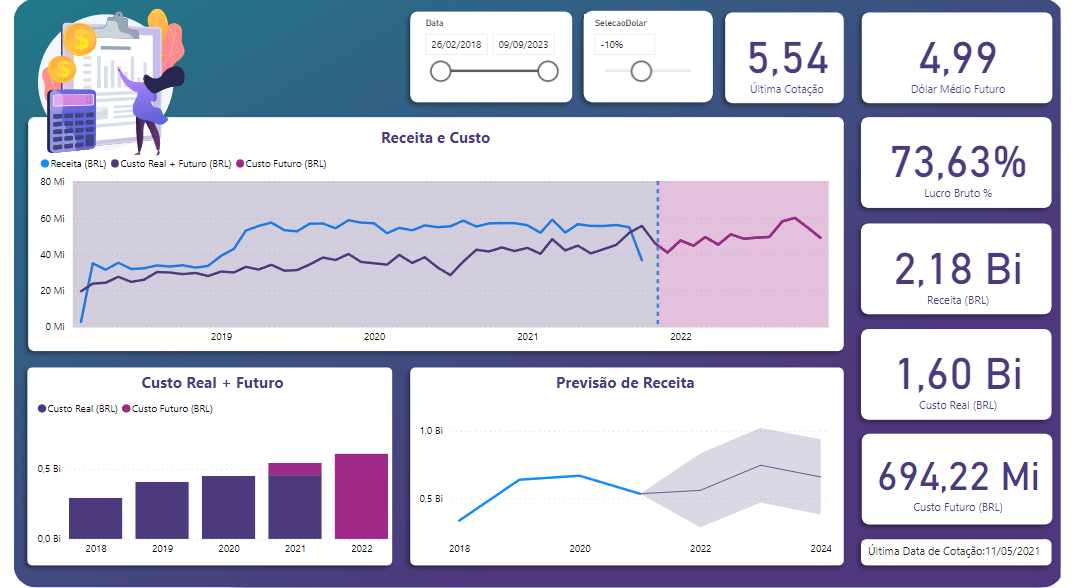

What the dashboard file says about the page in this screenshot:
{"tool":"powerbi","page":{"name":"Página 1","canvas":[1280,720],"ordinal":0},"visuals":[{"type":"lineChart","title":"Receita e Custo","fields":{"Y":["Medidas.Receita (BRL)","Medidas.Custo Real + Futuro (BRL)","Medidas.Custo Futuro (BRL)"],"Category":["Calendario.Data.Variation.Hierarquia de datas.Ano","Calendario.Data.Variation.Hierarquia de datas.Trimestre","Calendario.Data.Variation.Hierarquia de datas.Mês","Calendario.Data.Variation.Hierarquia de datas.Dia"]},"box":[27,154.8,977,274.1],"z":0},{"type":"slicer","fields":{"Values":["SelecaoDolar.SelecaoDolar"]},"box":[697.3,17,153.4,96.6],"z":1000},{"type":"textbox","box":[1039.5,658.9,230.1,32.7],"z":2000},{"type":"card","fields":{"Values":["Medidas.Última Cotação"]},"box":[866.3,11.4,156.2,120.7],"z":3000},{"type":"card","fields":{"Values":["Medidas.Dólar Médio Futuro"]},"box":[1039.5,17,230.1,107.9],"z":4000},{"type":"columnChart","title":"Custo Real + Futuro","fields":{"Category":["Calendario.Ano"],"Y":["Medidas.Custo Real (BRL)","Medidas.Custo Futuro (BRL)"]},"box":[22.7,454.4,438.8,234.3],"z":4001},{"type":"lineChart","title":"Previsão de Receita","fields":{"Category":["Calendario.Data.Variation.Hierarquia de datas.Ano","Calendario.Data.Variation.Hierarquia de datas.Trimestre","Calendario.Data.Variation.Hierarquia de datas.Mês","Calendario.Data.Variation.Hierarquia de datas.Dia"],"Y":["Medidas.Receita (BRL)"]},"box":[489.9,454.4,514.1,234.3],"z":4002},{"type":"card","fields":{"Values":["Medidas.Receita (BRL)"]},"box":[1039.5,278.3,230.1,102.2],"z":4003},{"type":"card","fields":{"Values":["Medidas.Custo Real (BRL)"]},"box":[1039.5,403.3,230.1,107.9],"z":4004},{"type":"card","fields":{"Values":["Medidas.Custo Futuro (BRL)"]},"box":[1039.5,529.7,230.1,110.8],"z":4005},{"type":"card","fields":{"Values":["Medidas.Lucro Bruto %"]},"box":[1039.5,144.9,230.1,107.9],"z":4006},{"type":"slicer","fields":{"Values":["Calendario.Data"]},"box":[489.9,17,191.7,107.9],"z":4007}]}

Visuals, with their boxes in screenshot pixels (x1, y1, x2, y2), scaled from the page's 1280x720 canvas onto the 1074x588 screenshot:
"Receita e Custo" lineChart: [23, 126, 842, 350]
slicer - SelecaoDolar.SelecaoDolar: [585, 14, 714, 93]
textbox: [872, 538, 1065, 565]
card - Medidas.Última Cotação: [727, 9, 858, 108]
card - Medidas.Dólar Médio Futuro: [872, 14, 1065, 102]
"Custo Real + Futuro" columnChart: [19, 371, 387, 562]
"Previsão de Receita" lineChart: [411, 371, 842, 562]
card - Medidas.Receita (BRL): [872, 227, 1065, 311]
card - Medidas.Custo Real (BRL): [872, 329, 1065, 417]
card - Medidas.Custo Futuro (BRL): [872, 433, 1065, 523]
card - Medidas.Lucro Bruto %: [872, 118, 1065, 206]
slicer - Calendario.Data: [411, 14, 572, 102]
